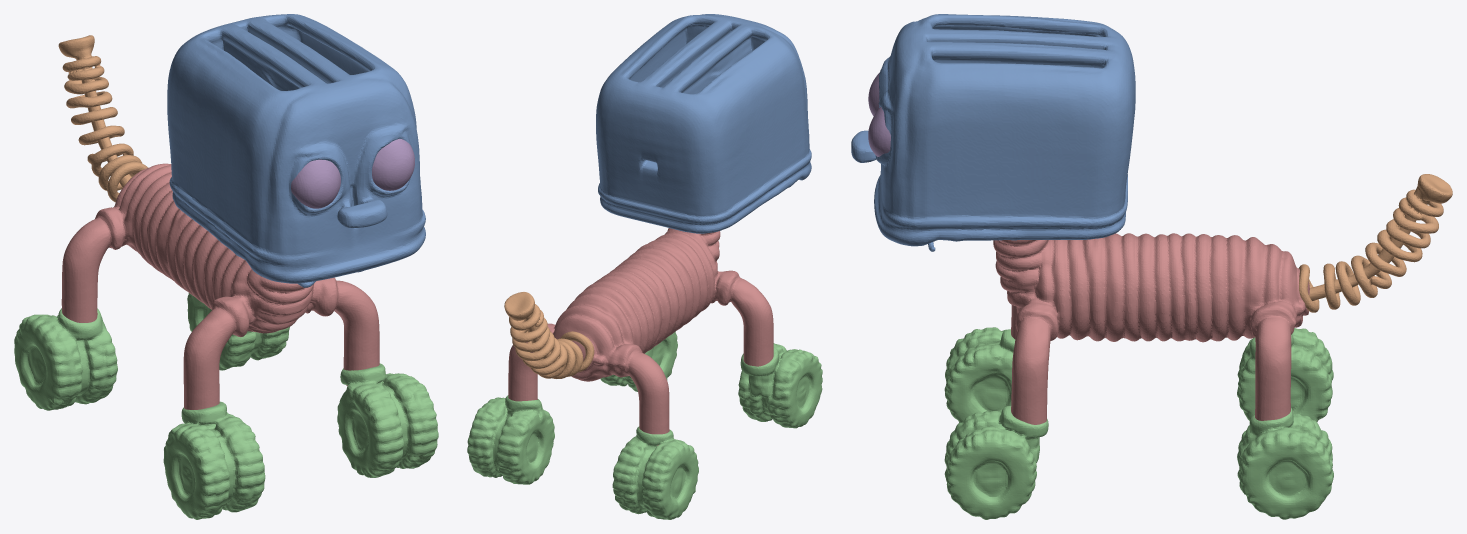
Rendered from junkyard_dog_robot_1.glb.
3 views of the same model, side by side, from view 1: azimuth 30°, elevation 25°; view 2: azimuth 150°, elevation 25°; view 3: azimuth 270°, elevation 25° (orthographic). The views are drawn at different scales.
Parts seen in each view (by area): view 1: Toaster_Head, Car_Tire_Paws, Rusty_Pipe_Body, Spring_Tail, Lightbulb_Eyes; view 2: Toaster_Head, Rusty_Pipe_Body, Car_Tire_Paws, Spring_Tail; view 3: Toaster_Head, Rusty_Pipe_Body, Car_Tire_Paws, Spring_Tail, Lightbulb_Eyes.
Boxes of the visible parts, x1,y1,x2,y2 form: Toaster_Head: (167, 14, 425, 287); Car_Tire_Paws: (14, 293, 438, 519); Rusty_Pipe_Body: (61, 163, 379, 409); Spring_Tail: (58, 35, 147, 202); Lightbulb_Eyes: (291, 139, 414, 208); Toaster_Head: (596, 14, 811, 233); Rusty_Pipe_Body: (508, 228, 773, 445); Car_Tire_Paws: (467, 331, 822, 519); Spring_Tail: (504, 292, 594, 378); Toaster_Head: (851, 14, 1135, 251); Rusty_Pipe_Body: (993, 233, 1309, 424); Car_Tire_Paws: (944, 327, 1333, 519); Spring_Tail: (1299, 174, 1452, 312); Lightbulb_Eyes: (868, 72, 890, 156).
Bounding box in the file's own units: 0.8598 × 1.51 × 1.91.
